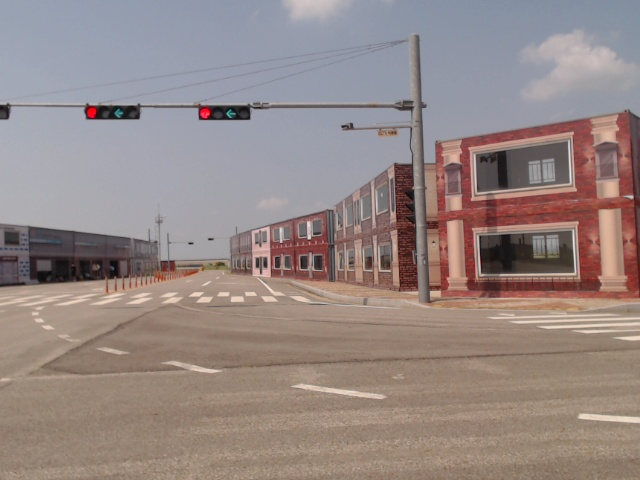left_green_4: (199, 105, 251, 119), (86, 106, 139, 119)
